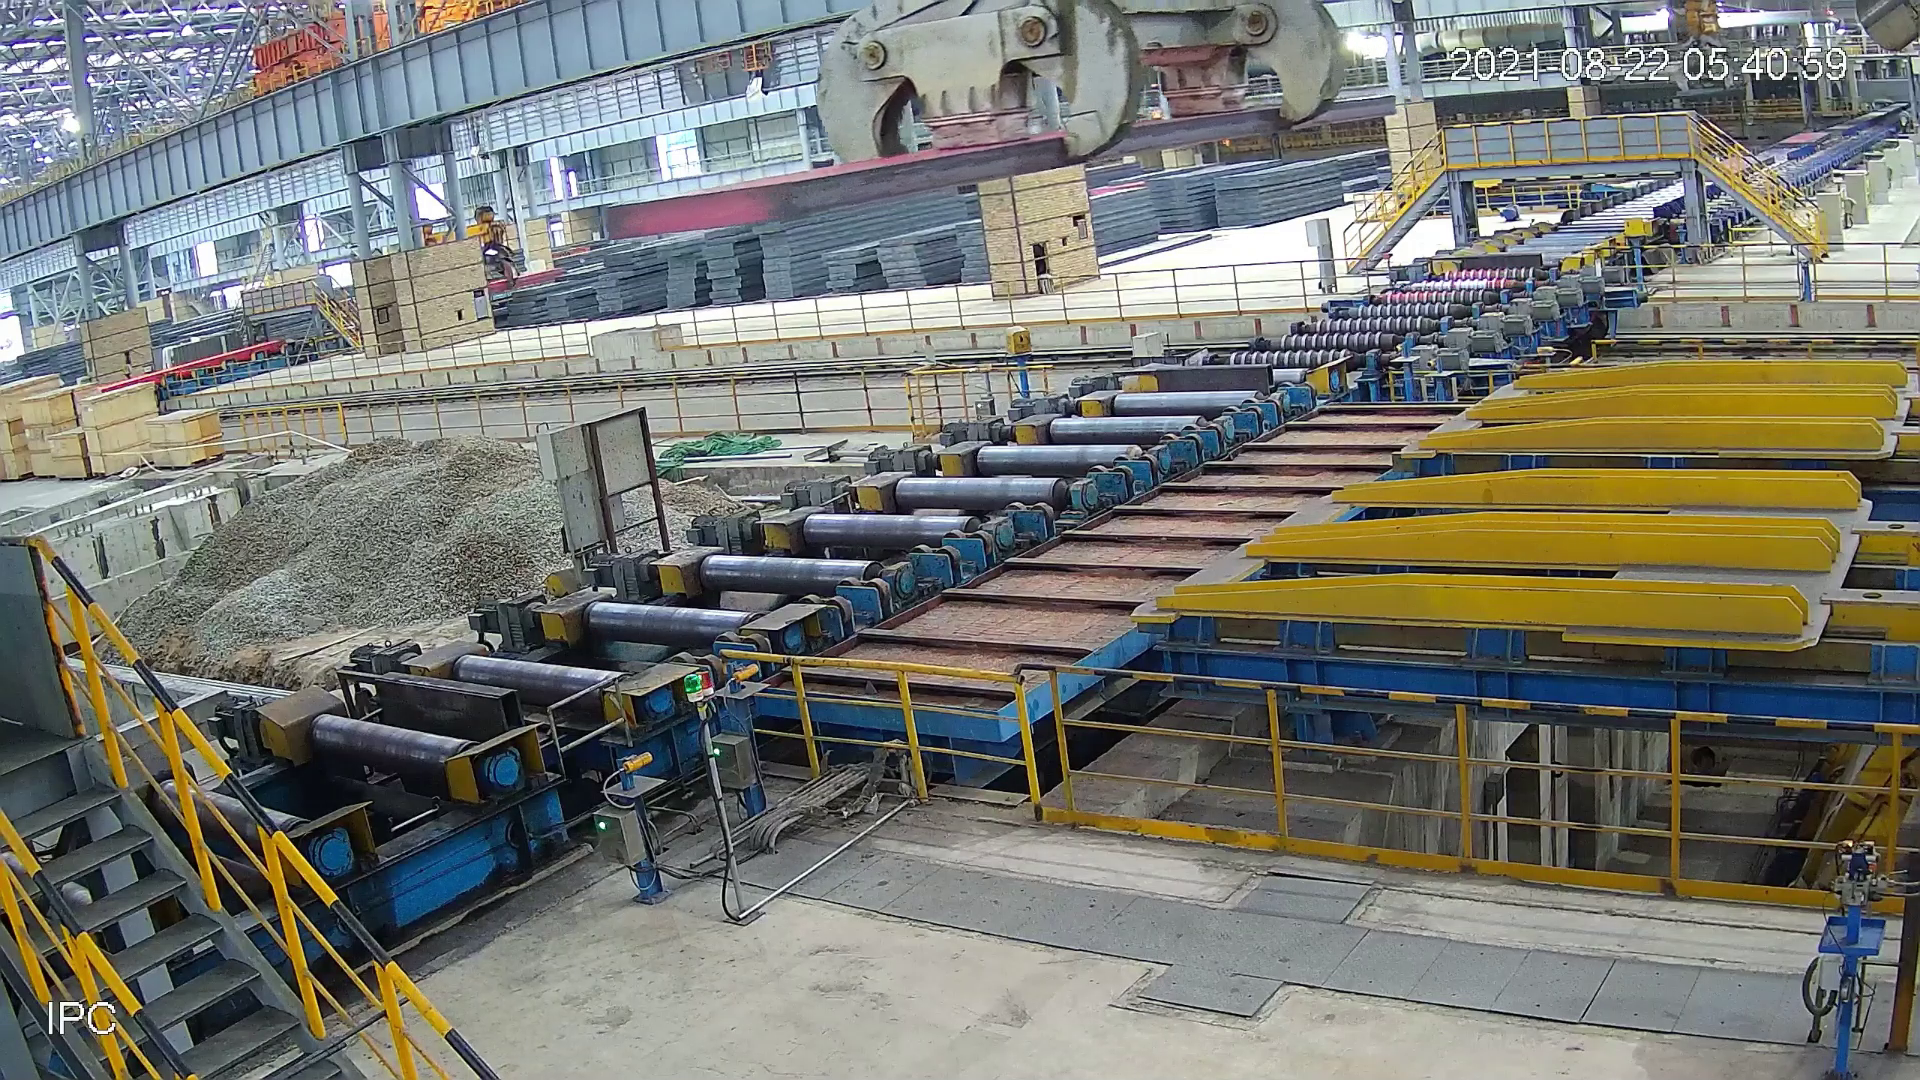craneandslab: (584, 1, 1440, 264), (1667, 1, 1766, 109)
